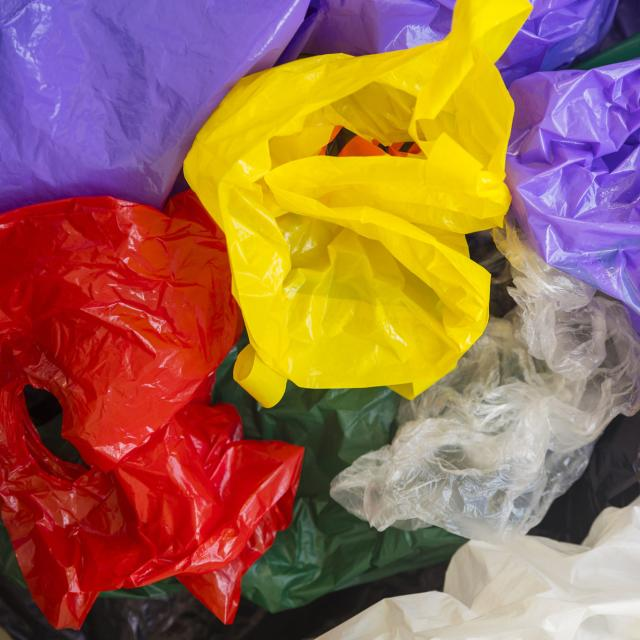Single-layer Plastic: (185, 0, 531, 406), (0, 190, 304, 628), (331, 226, 640, 543), (212, 336, 462, 612), (0, 0, 309, 212), (320, 497, 640, 640), (506, 58, 640, 331), (280, 0, 455, 62), (498, 0, 619, 86)
